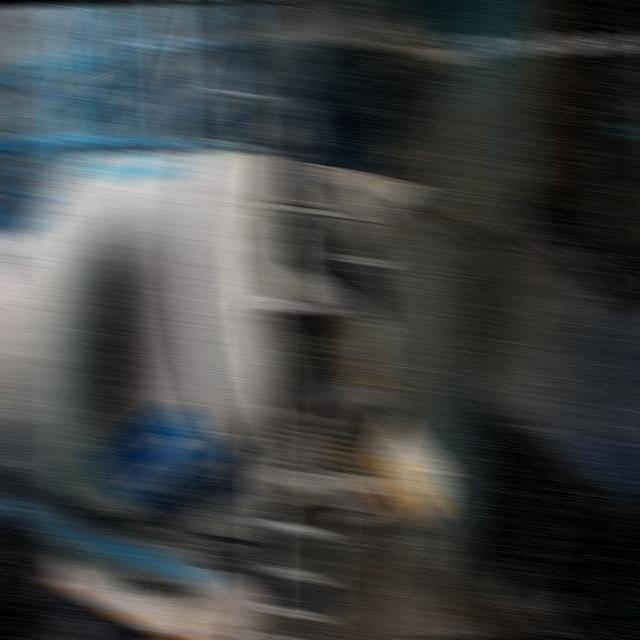cement_mixer_truck: (0, 143, 435, 640)
